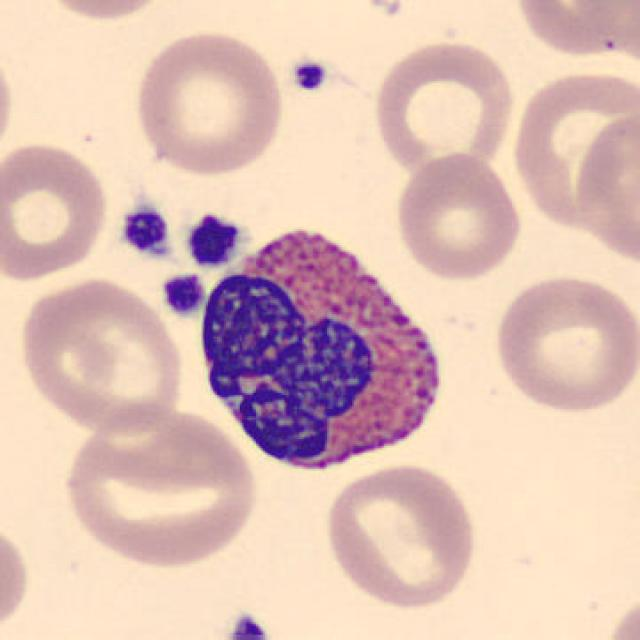Eosinophil: (190, 208, 459, 487)
Platelets: (183, 212, 244, 270), (116, 201, 174, 261), (158, 272, 206, 319), (288, 55, 331, 95), (222, 610, 272, 640)
RBC: (57, 404, 261, 571), (12, 274, 188, 436), (320, 460, 482, 612), (130, 25, 288, 178), (489, 270, 638, 416), (508, 65, 634, 236), (370, 37, 517, 176), (391, 148, 526, 284), (0, 137, 112, 286), (569, 104, 638, 272), (511, 0, 636, 62), (0, 513, 34, 640), (30, 0, 180, 25), (0, 39, 18, 167), (599, 587, 638, 640)
